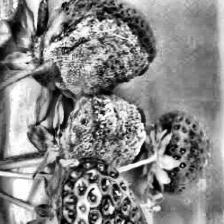Gray Mold: (38, 14, 154, 98), (56, 92, 148, 168)
